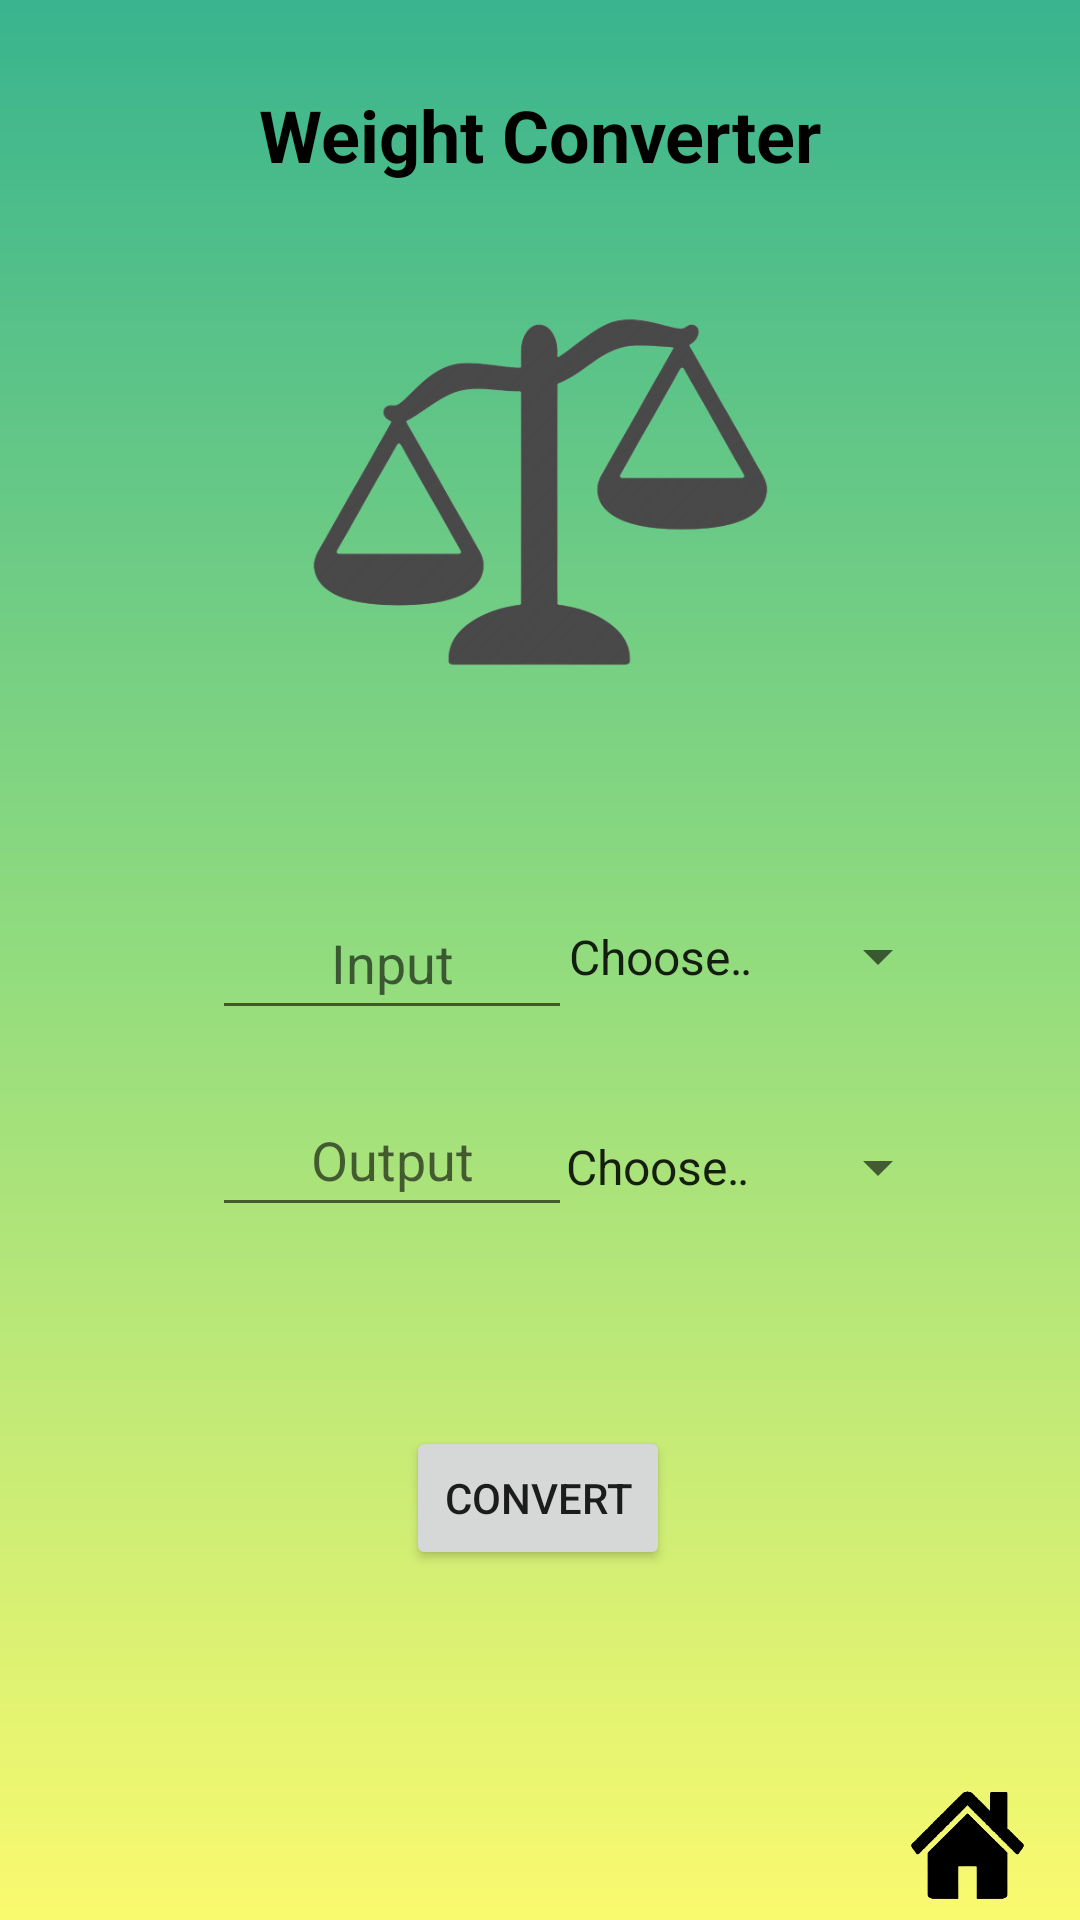

Icons on this 1080px×1920px Android screen, each with its box as (x1, y1, x2, y2):
homeicon: (911, 1791, 1024, 1899)
